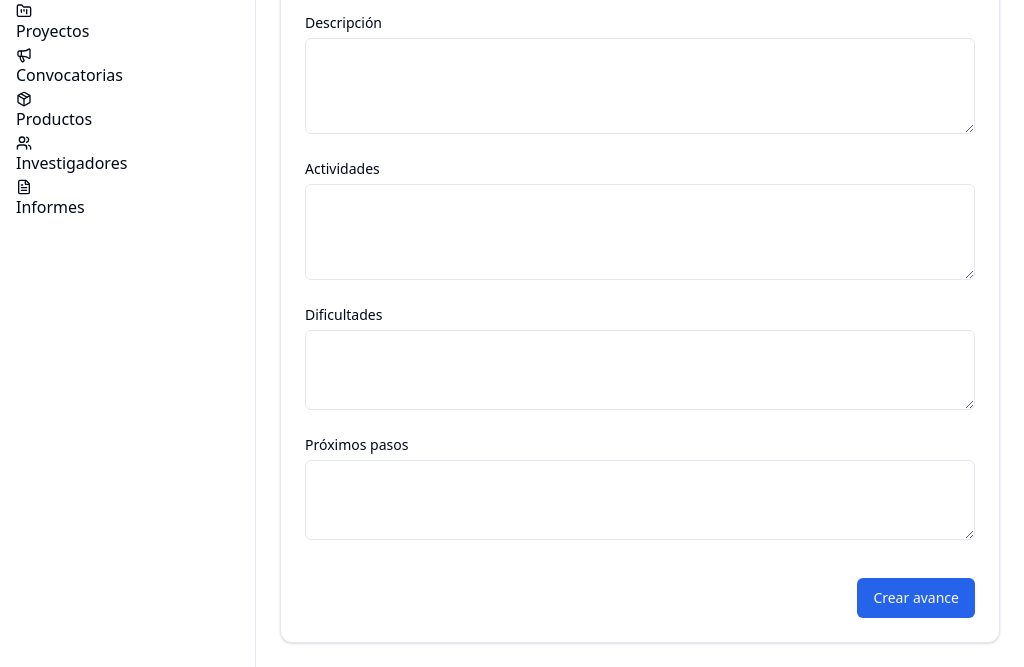
Test case: NewAdvancePage — submit › shows validation errors and does not POST when required fields are empty
(page scrolled)
Click the button "Crear avance" at (916, 598), box [857,578,975,618]
(page scrolled)
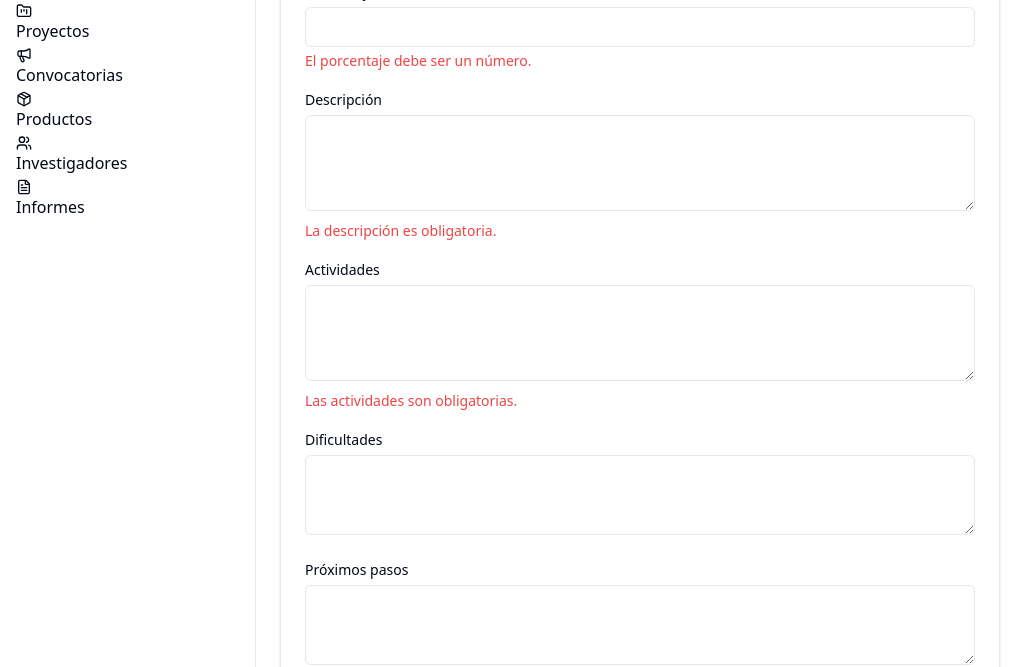
Now the text "La descripción es obligatoria." is shown, box [305,221,496,240]
Now the text "Las actividades son obligatorias." is shown, box [305,391,517,410]
